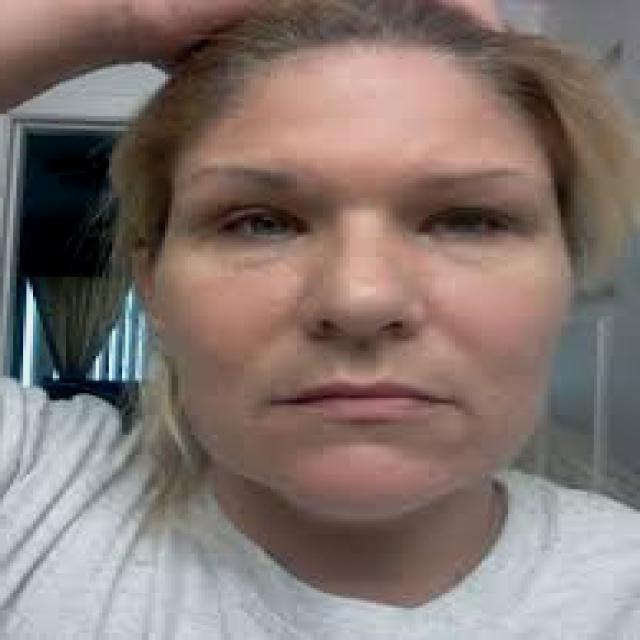normal_face: (142, 2, 575, 528)
